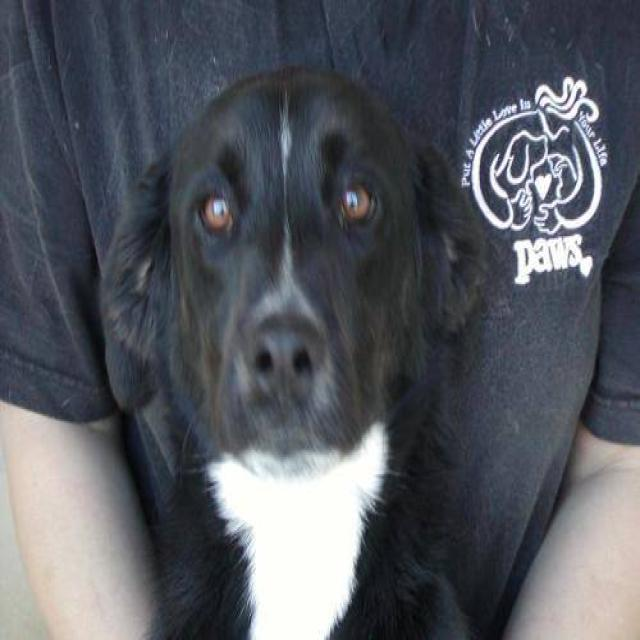dog: (96, 62, 492, 638)
